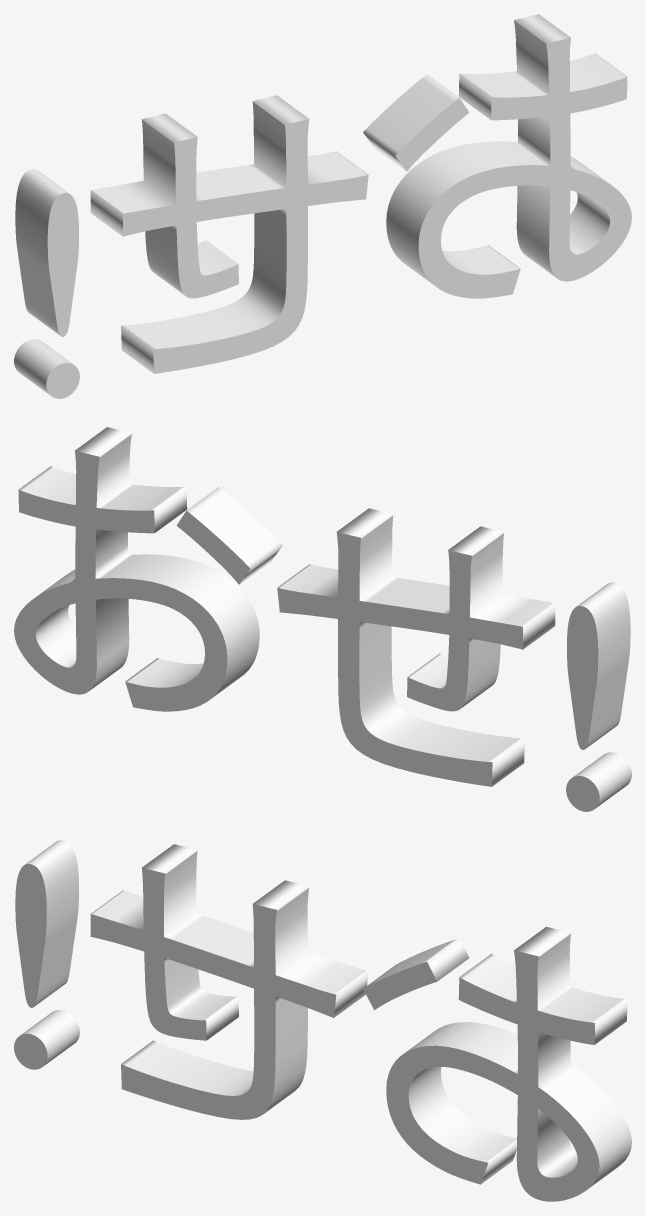
The model's file is Ose.obj.
3 renders of one model, top to bottom at view 1: azimuth 30°, elevation 25°; view 2: azimuth 150°, elevation 25°; view 3: azimuth 330°, elevation 25°, orthographic.
Parts seen in each view (by area): view 1: テキスト; view 2: テキスト; view 3: テキスト.
Part boxes in pixels (x1,y1,x2,y2): テキスト: (14,14,631,398); テキスト: (14,427,631,811); テキスト: (14,840,631,1201).
Bounding box in the file's own units: 2.09 × 0.831 × 0.2.
